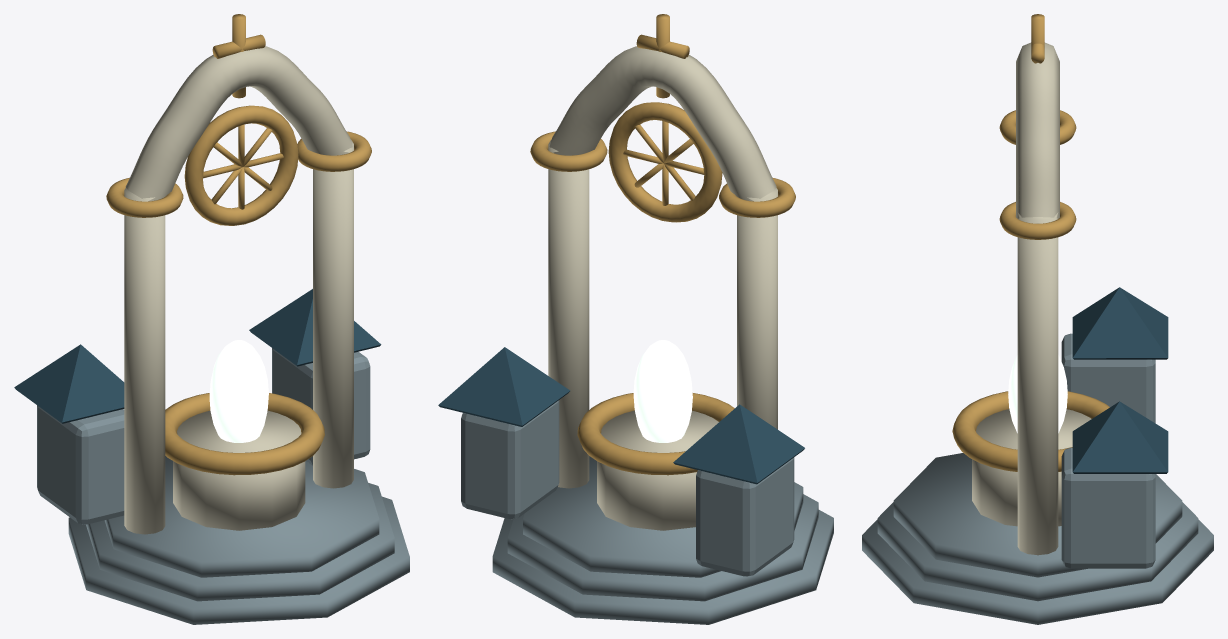
File: sanctuary-3.glb
3 renders of one model, left to right at view 1: azimuth 30°, elevation 25°; view 2: azimuth 150°, elevation 25°; view 3: azimuth 270°, elevation 25°, orthographic.
Parts seen in each view (by area): view 1: Foundation_Ivory carving.005, Foundation_Carved blue limestone.005, Foundation_Aged brass.005, Foundation_Royal blue enamel.005, Core_Dawn light.002; view 2: Foundation_Carved blue limestone.005, Foundation_Ivory carving.005, Foundation_Aged brass.005, Foundation_Royal blue enamel.005, Core_Dawn light.002; view 3: Foundation_Carved blue limestone.005, Foundation_Ivory carving.005, Foundation_Royal blue enamel.005, Foundation_Aged brass.005, Core_Dawn light.002.
Part boxes in pixels (bbox=[...]): Foundation_Ivory carving.005: bbox=[124, 46, 353, 534]; Foundation_Carved blue limestone.005: bbox=[37, 348, 409, 624]; Foundation_Aged brass.005: bbox=[106, 14, 371, 475]; Foundation_Royal blue enamel.005: bbox=[14, 289, 381, 423]; Core_Dawn light.002: bbox=[209, 340, 268, 442]; Foundation_Carved blue limestone.005: bbox=[461, 400, 833, 624]; Foundation_Ivory carving.005: bbox=[548, 46, 777, 530]; Foundation_Aged brass.005: bbox=[530, 14, 795, 475]; Foundation_Royal blue enamel.005: bbox=[438, 347, 804, 484]; Core_Dawn light.002: bbox=[633, 340, 692, 442]; Foundation_Carved blue limestone.005: bbox=[862, 333, 1213, 624]; Foundation_Ivory carving.005: bbox=[972, 42, 1091, 555]; Foundation_Royal blue enamel.005: bbox=[1072, 287, 1168, 473]; Foundation_Aged brass.005: bbox=[952, 14, 1109, 471]; Core_Dawn light.002: bbox=[1008, 355, 1067, 433].
Bounding box in the file's own units: 2.34 × 3.75 × 2.24.
